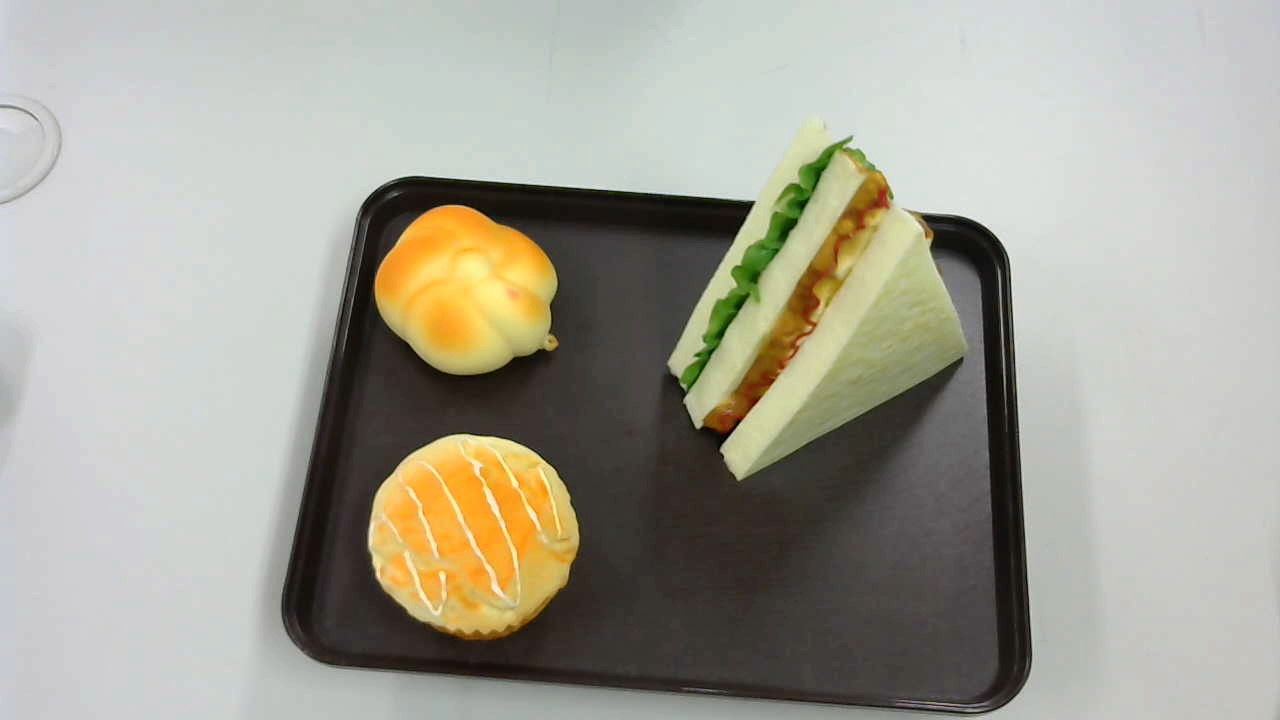cupcake: (368, 435, 580, 635)
sandwich: (667, 107, 971, 481)
twist bread: (370, 204, 557, 375)
